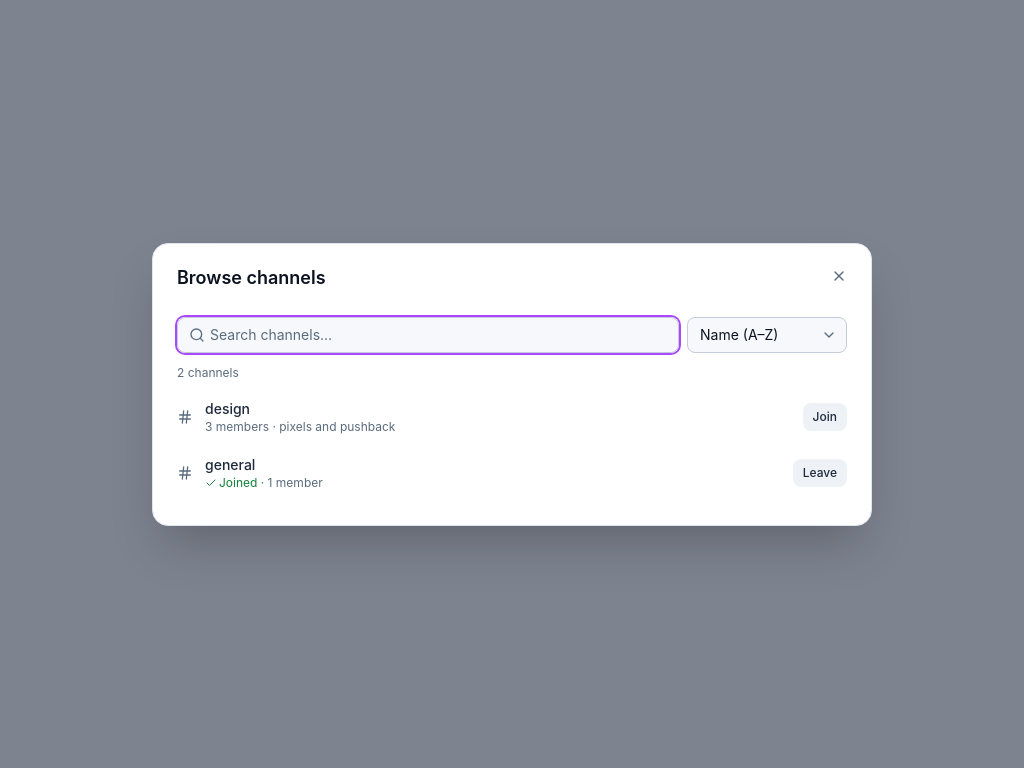
BrowseChannelsModal › filters by name and topic
This screenshot has width=1024, height=768.
In the field labelled "Search channels": (428, 334) x1=177 y1=316 x2=679 y2=352, type "desi"
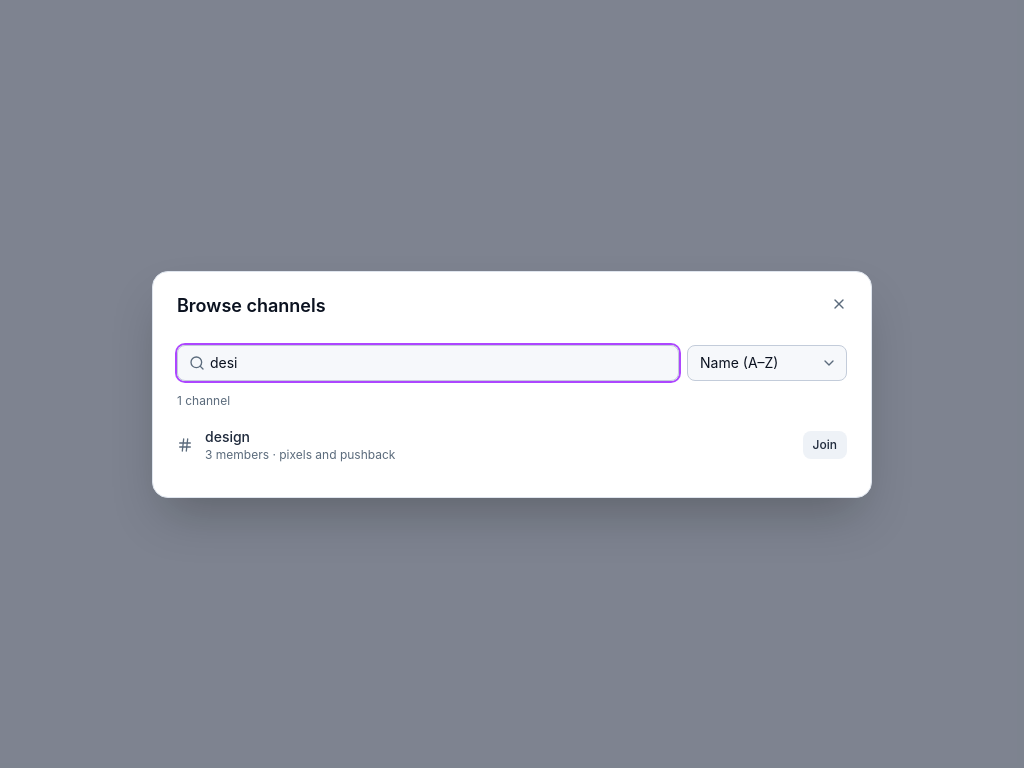
expect the number of elements with test id "browse-channel-row" is 1: met, box x1=165 y1=416 x2=859 y2=472
Replace the text in the field labelled "Search channels" with "pushback": (428, 362) x1=177 y1=344 x2=679 y2=380
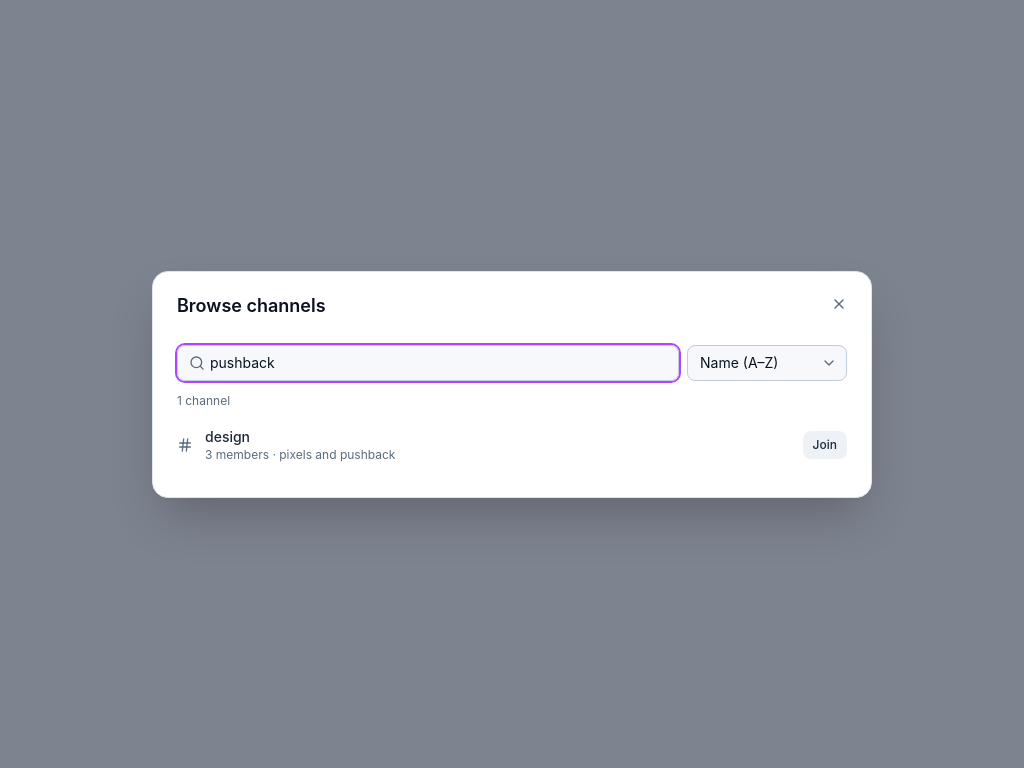
expect the number of elements with test id "browse-channel-row" is 1: met, box x1=165 y1=416 x2=859 y2=472
Replace the text in the field labelled "Search channels" with "nothing-matches": (428, 362) x1=177 y1=344 x2=679 y2=380
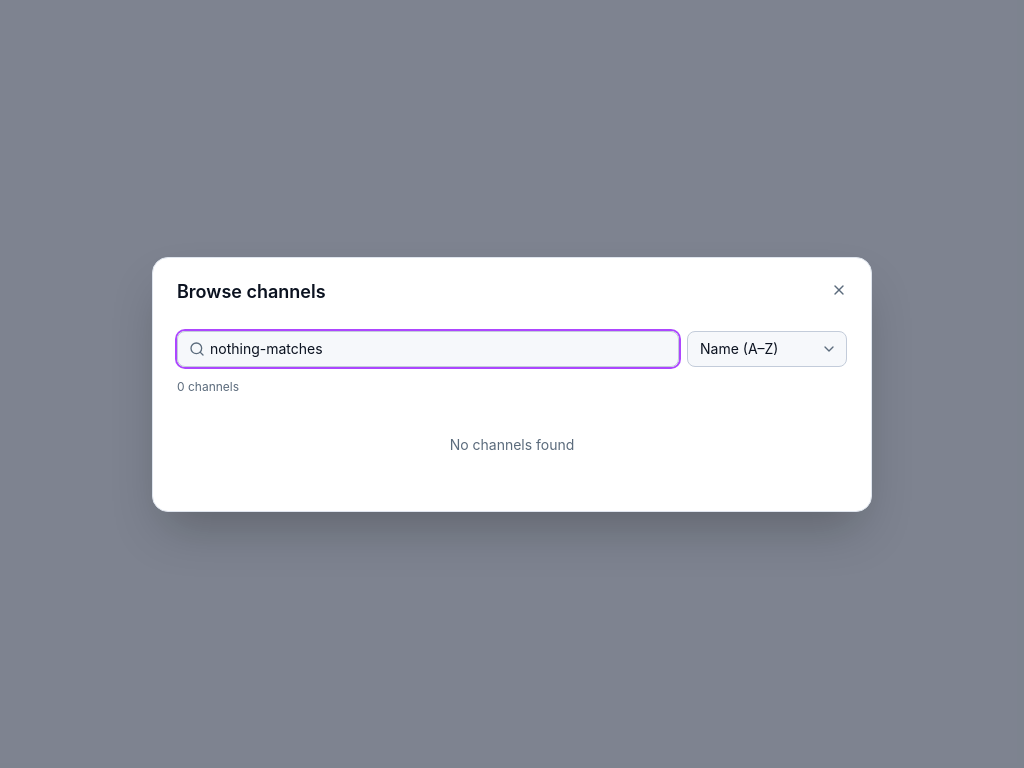
expect the text "No channels found" is shown: met, box x1=450 y1=436 x2=574 y2=452
